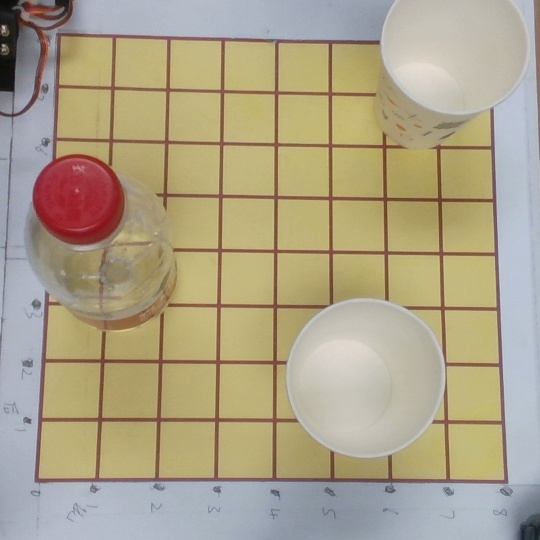bottle: (22, 153, 196, 350)
cup: (280, 296, 447, 459), (365, 1, 530, 160)
